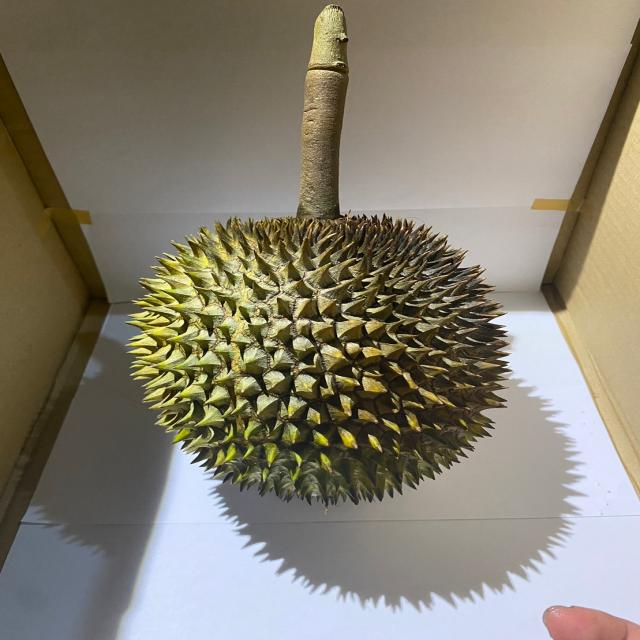immature: (125, 210, 521, 506)
